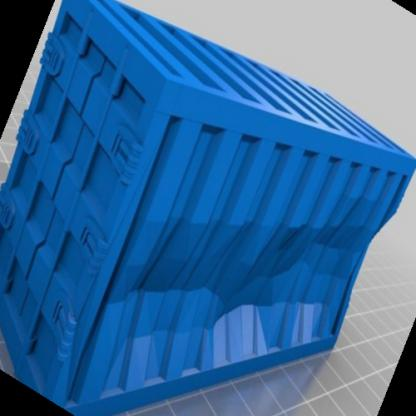Damage: (125, 234, 360, 299)
